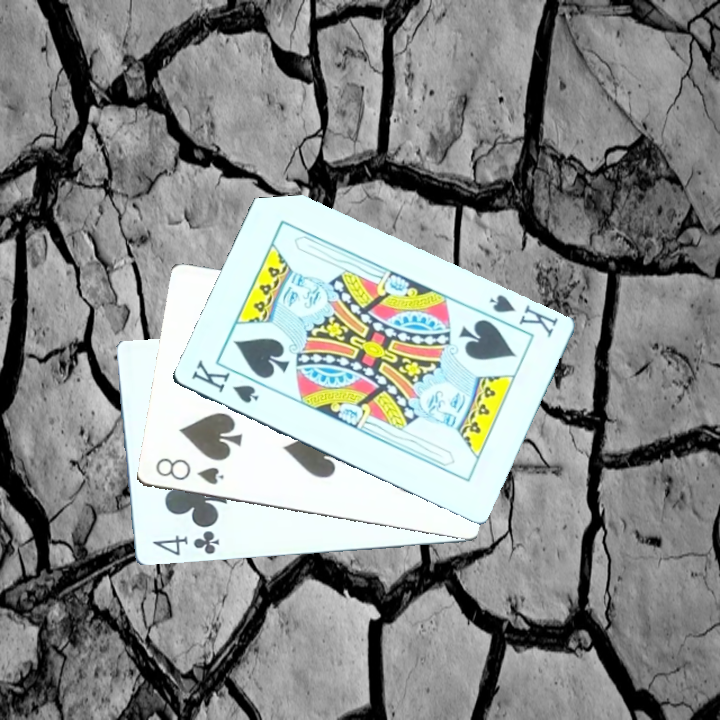4c: (148, 526, 221, 558)
8s: (151, 453, 227, 487)
Ks: (478, 290, 560, 346), (187, 356, 262, 406)
